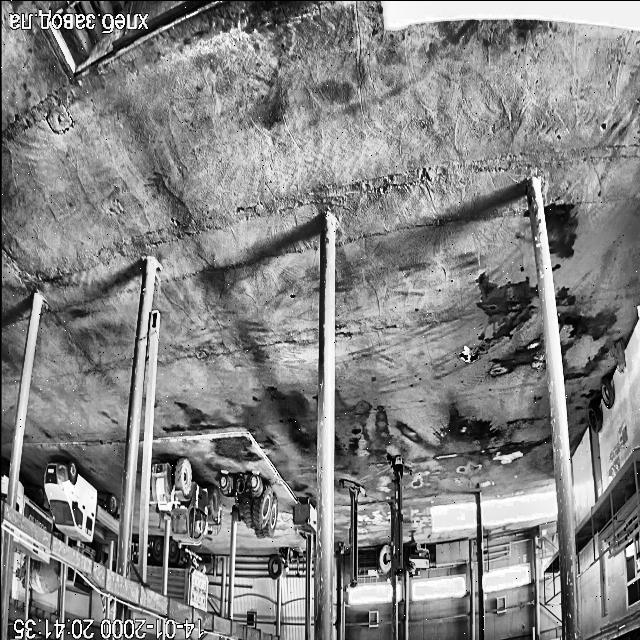class6: (151, 458, 220, 544), (220, 474, 278, 538)
class7: (44, 460, 119, 540), (168, 540, 208, 612), (16, 483, 52, 532), (29, 559, 60, 594), (146, 538, 163, 592), (12, 538, 48, 562), (68, 540, 103, 563), (66, 567, 92, 595), (0, 464, 8, 500), (16, 480, 24, 510), (132, 543, 140, 563), (19, 564, 24, 585), (130, 565, 135, 580)
tractor: (616, 340, 624, 372)
truck: (340, 479, 365, 588), (388, 455, 410, 574)
